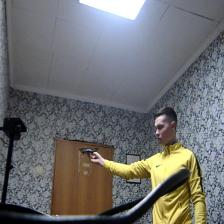drone: (78, 138, 101, 159)
